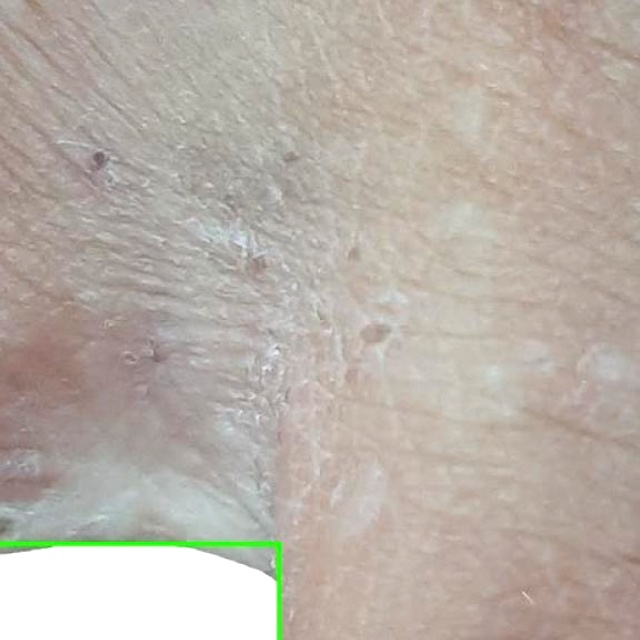Scabies: (0, 543, 279, 639)
